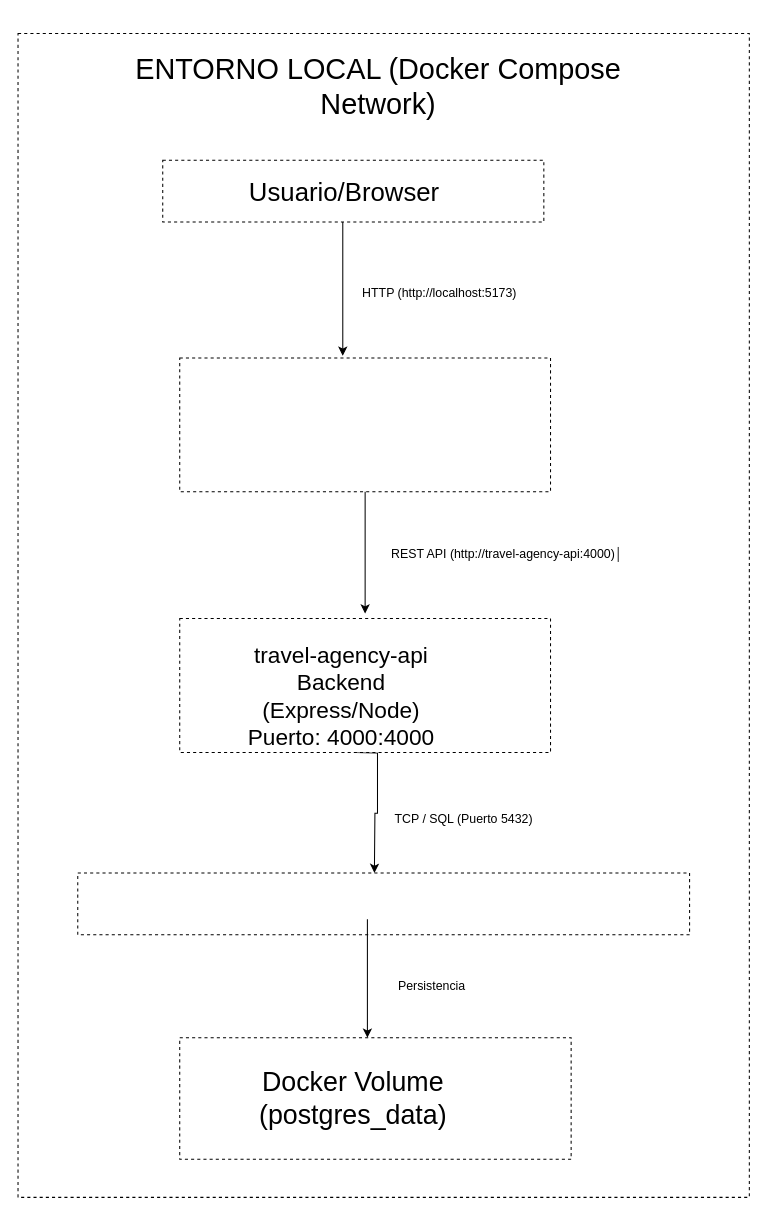
This 767x1215 diagram has some shape labels left out. Here are the shapes that lost their labels. From the top down, the box of each, then its label:
(179, 357, 551, 492): travel-agency-web Frontend (React/Vite) Puerto: 5173:5173
(77, 872, 690, 935): travel-agency-db (PostgreSQL 15) Puerto: 5432:5432
